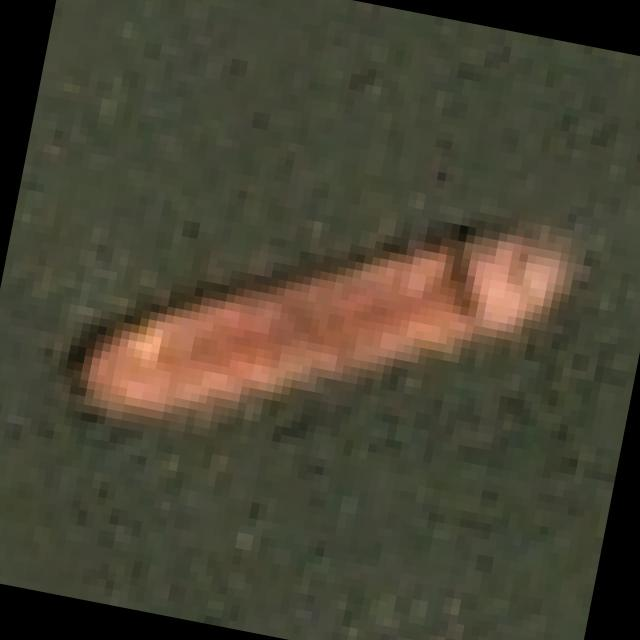ship: (47, 128, 582, 521)
